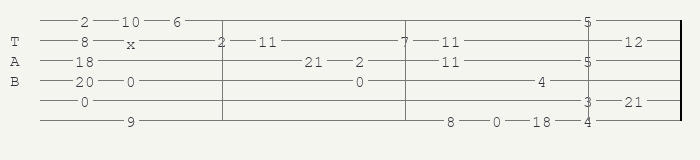0: (80, 93, 94, 107), (126, 73, 140, 87), (355, 73, 369, 87), (492, 113, 506, 127)
10: (121, 13, 145, 27)
11: (258, 33, 282, 47), (441, 53, 465, 67), (441, 33, 465, 47)
12: (624, 33, 648, 47)
18: (75, 53, 99, 67), (532, 113, 556, 127)
2: (80, 13, 94, 27), (217, 33, 231, 47), (355, 53, 369, 67)
20: (75, 73, 99, 87)
21: (304, 53, 328, 67), (624, 93, 648, 107)
3: (583, 93, 597, 107)
4: (537, 73, 551, 87), (583, 113, 597, 127)
5: (583, 53, 597, 67), (583, 13, 597, 27)
6: (172, 13, 186, 27)
7: (400, 33, 414, 47)
8: (80, 33, 94, 47), (446, 113, 460, 127)
9: (126, 113, 140, 127)
x: (126, 35, 140, 46)
